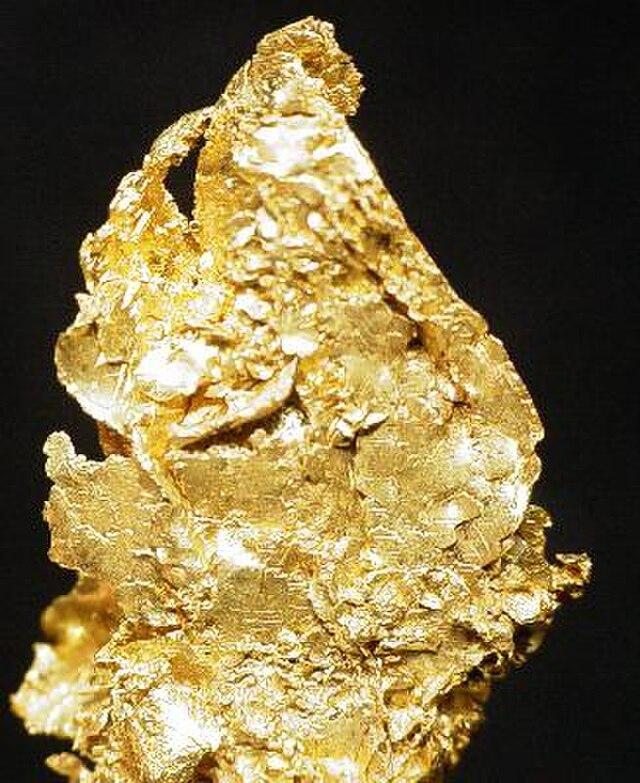gold: (4, 7, 611, 782)
